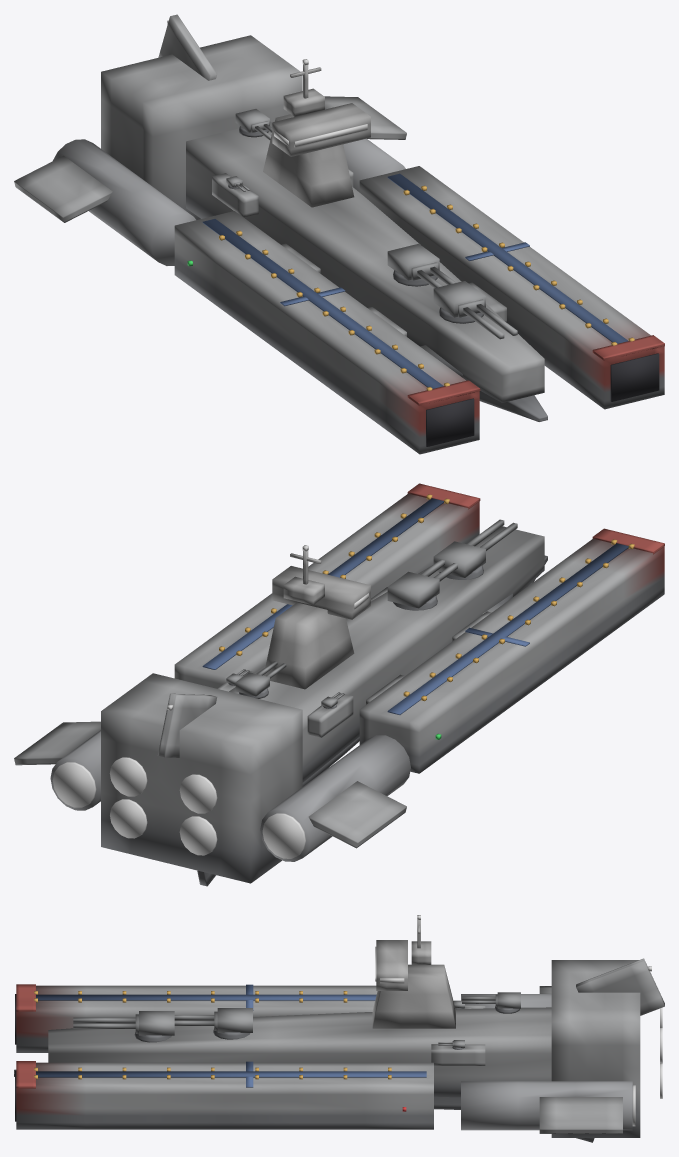
The model's file is hero.glb.
3 renders of one model, top to bottom at view 1: azimuth 30°, elevation 25°; view 2: azimuth 150°, elevation 25°; view 3: azimuth 270°, elevation 25°, orthographic. The views are drawn at different scales.
Parts seen in each view (by area): view 1: hero_hull, hero_pods, hero_nacelles, hero_tower, hero_deck, hero_turrets, hero_mouths, hero_lights, hero_turret_bases; view 2: hero_hull, hero_pods, hero_tower, hero_engines, hero_nacelles, hero_deck, hero_turrets, hero_lights, hero_turret_bases; view 3: hero_hull, hero_pods, hero_nacelles, hero_tower, hero_deck, hero_turrets, hero_lights, hero_turret_bases, hero_engines.
Boxes of the visible parts, x1=… form: hero_hull: x1=14, y1=14, x2=547, y2=421; hero_pods: x1=174, y1=166, x2=664, y2=454; hero_nacelles: x1=53, y1=108, x2=405, y2=265; hero_tower: x1=263, y1=64, x2=370, y2=207; hero_deck: x1=202, y1=173, x2=628, y2=388; hero_turrets: x1=226, y1=109, x2=517, y2=339; hero_mouths: x1=426, y1=353, x2=659, y2=446; hero_lights: x1=167, y1=20, x2=634, y2=390; hero_turret_bases: x1=228, y1=126, x2=483, y2=323; hero_hull: x1=14, y1=526, x2=547, y2=886; hero_pods: x1=174, y1=483, x2=664, y2=773; hero_tower: x1=263, y1=550, x2=370, y2=689; hero_engines: x1=52, y1=757, x2=305, y2=858; hero_nacelles: x1=50, y1=730, x2=410, y2=861; hero_deck: x1=202, y1=498, x2=628, y2=714; hero_turrets: x1=226, y1=519, x2=517, y2=707; hero_lights: x1=167, y1=494, x2=634, y2=739; hero_turret_bases: x1=228, y1=565, x2=483, y2=708; hero_hull: x1=14, y1=958, x2=664, y2=1142; hero_pods: x1=16, y1=984, x2=433, y2=1129; hero_nacelles: x1=461, y1=994, x2=632, y2=1130; hero_tower: x1=372, y1=920, x2=455, y2=1028; hero_deck: x1=36, y1=984, x2=426, y2=1087; hero_turrets: x1=73, y1=992, x2=520, y2=1047; hero_lights: x1=34, y1=915, x2=651, y2=1111; hero_turret_bases: x1=134, y1=1006, x2=519, y2=1049; hero_engines: x1=632, y1=1007, x2=662, y2=1126.
Bounding box in the file's own units: 138 × 101 × 265.
